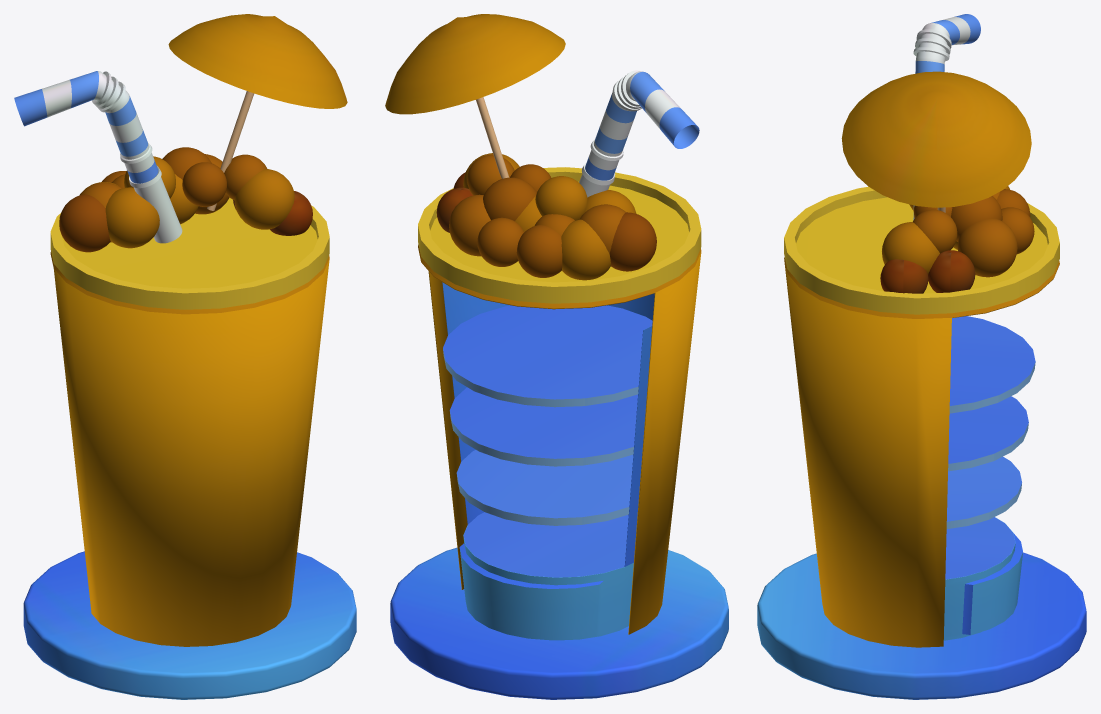
Rendered from FINAL CUP.fbx.
3 renders of one model, left to right at view 1: azimuth 30°, elevation 25°; view 2: azimuth 150°, elevation 25°; view 3: azimuth 270°, elevation 25°, orthographic. The views are drawn at different scales.
Parts seen in each view (by area): view 1: Cylinder.059, Cylinder.055, Cylinder.061, Sphere.067, Cylinder.062, Sphere.064, Sphere.057, Sphere.065, Sphere.051, Sphere.063, Sphere.066, Sphere.052 (+3 smaller); view 2: Cylinder.060, Cylinder.055, Cylinder.059, Cylinder.001, Cylinder.061, Sphere.067, Cylinder.062, Sphere.058, Sphere.065, Sphere.059, Sphere.056, Sphere.053 (+8 smaller); view 3: Cylinder.059, Cylinder.055, Sphere.067, Cylinder.060, Cylinder.061, Cylinder.001, Sphere.062, Cylinder.062, Sphere.064, Sphere.061, Sphere.066, Sphere.063 (+3 smaller).
Part boxes in pixels (x1,y1,x2,y2): Cylinder.059: [50, 251, 329, 646]; Cylinder.055: [23, 551, 356, 699]; Cylinder.061: [50, 197, 329, 309]; Sphere.067: [168, 14, 347, 108]; Cylinder.062: [14, 71, 182, 243]; Sphere.064: [234, 169, 294, 229]; Sphere.057: [105, 187, 159, 248]; Sphere.065: [59, 194, 110, 252]; Sphere.051: [182, 162, 226, 206]; Sphere.063: [224, 154, 267, 199]; Sphere.066: [270, 191, 312, 235]; Sphere.052: [162, 147, 211, 179]; Cylinder.060: [443, 305, 652, 577]; Cylinder.055: [390, 547, 728, 699]; Cylinder.059: [418, 244, 701, 634]; Cylinder.001: [442, 282, 654, 640]; Cylinder.061: [418, 167, 701, 303]; Sphere.067: [385, 14, 565, 114]; Cylinder.062: [579, 70, 699, 197]; Sphere.058: [561, 219, 610, 280]; Sphere.065: [610, 212, 656, 271]; Sphere.059: [516, 225, 562, 277]; Sphere.056: [535, 176, 587, 220]; Sphere.053: [477, 217, 524, 266]; Cylinder.059: [784, 257, 1059, 647]; Cylinder.055: [757, 552, 1086, 699]; Sphere.067: [841, 71, 1031, 207]; Cylinder.060: [945, 316, 1035, 579]; Cylinder.061: [784, 186, 1059, 314]; Cylinder.001: [943, 518, 1022, 640]; Sphere.062: [957, 218, 1017, 277]; Cylinder.062: [913, 14, 980, 219]; Sphere.064: [882, 222, 939, 274]; Sphere.061: [928, 250, 975, 292]; Sphere.066: [880, 259, 928, 293]; Sphere.063: [913, 209, 957, 253].
Size of what is drawn, in the model's own units: 4044 by 7425 by 3823.
